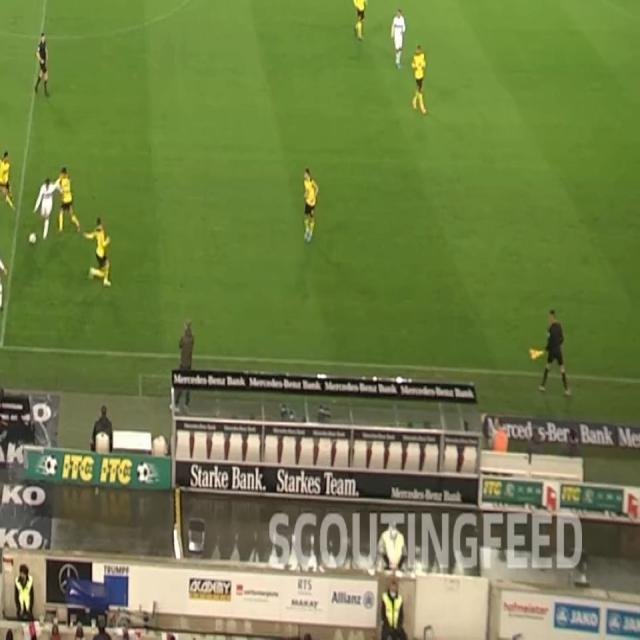ball: (28, 230, 36, 246)
